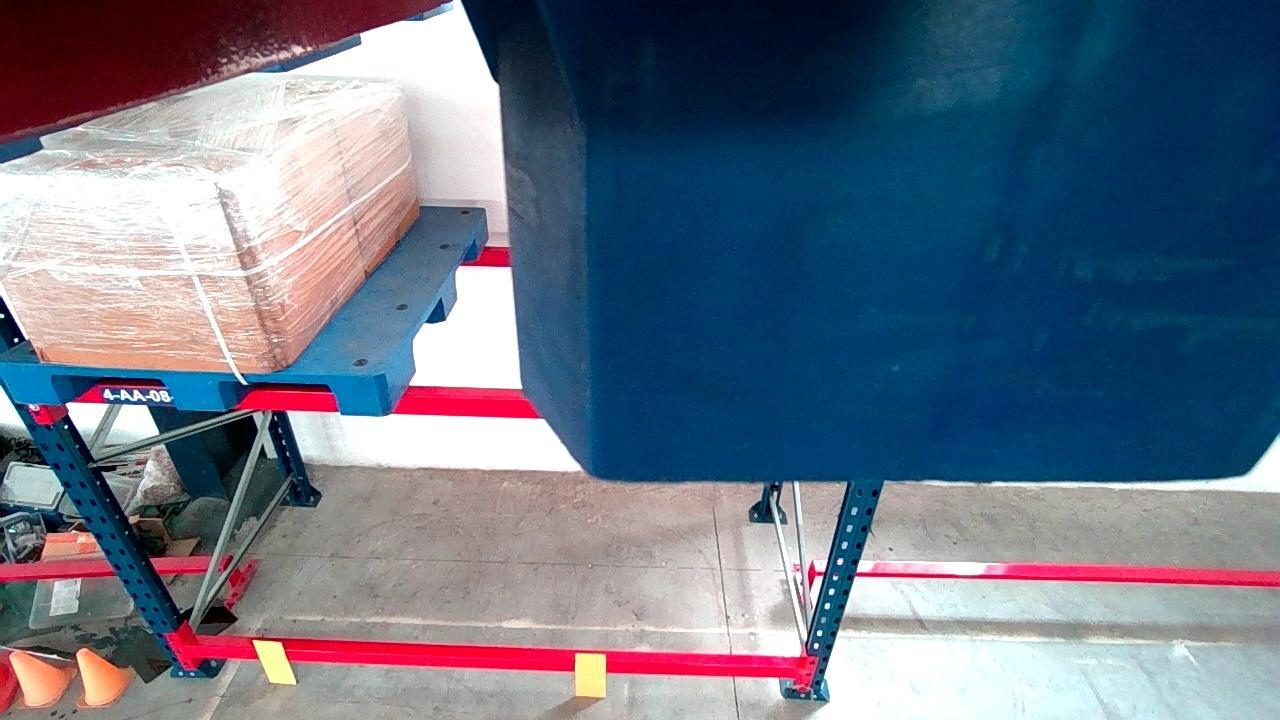h_rack: (184, 644, 797, 678), (80, 384, 538, 416)
orange_strip: (252, 642, 295, 684), (576, 652, 605, 697)
small_pallet: (2, 365, 384, 416)
